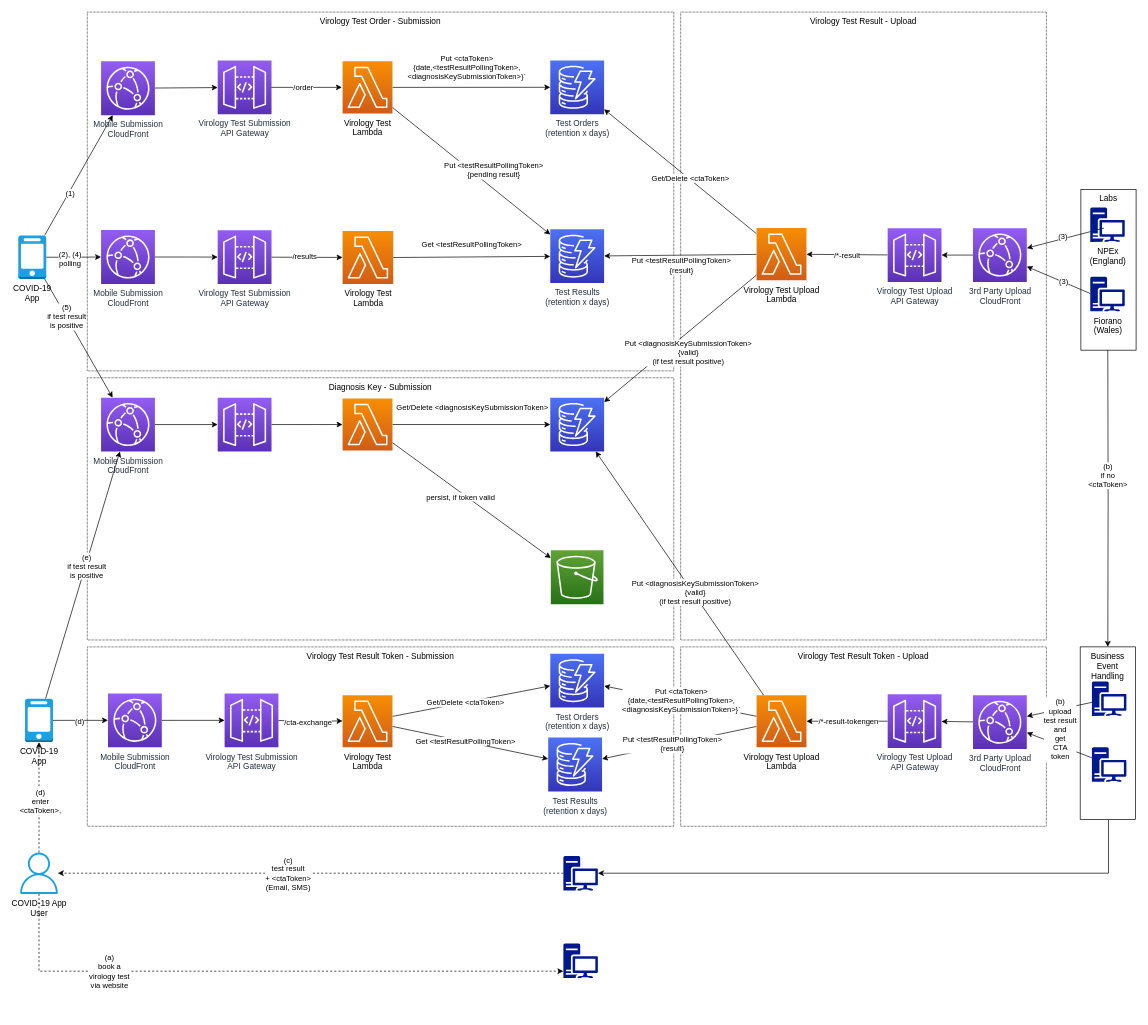
The diagram is 1148 pixels wide and 1025 high, and some of its shapes have lost their labels. Here are the shapes that lost their labels. From the top down, the centre of each, then its label:
the point at 244,424: Diagnosis Key Submission API Gateway
the point at 367,424: Diagnosis Key Submission Lambda
the point at 577,424: Diagnosis Key Submission Tokens (retention x days)
the point at 576,577: Submissions (retention 14 days)
the point at 1109,698: BSA (England)
the point at 1109,764: NWIS (Wales)
the point at 580,873: UK Gov Notify (Email, SMS)
the point at 580,960: Virology Website (England/Wales)
